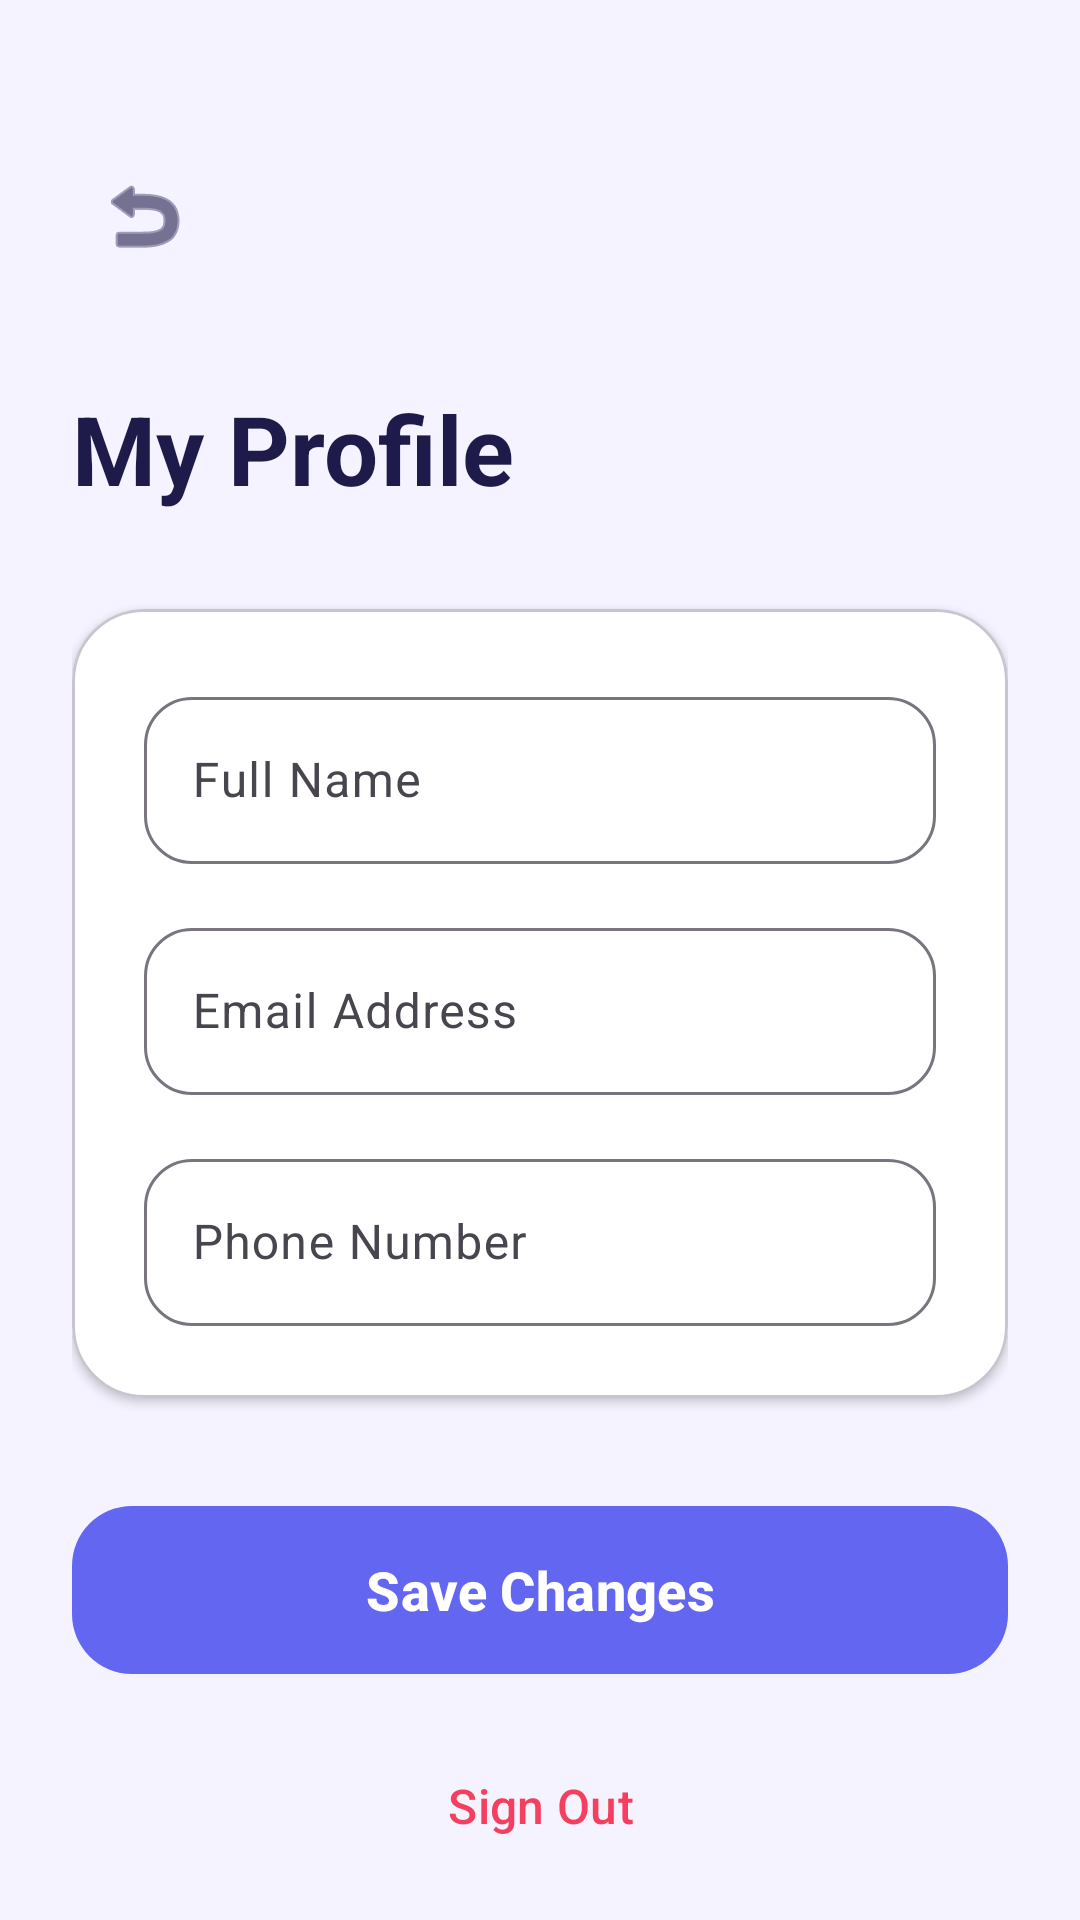

Screen size 1080×1920. Icon name, then its box in pixels as (x1, y1, x2, y2):
revert: (111, 185, 180, 248)
